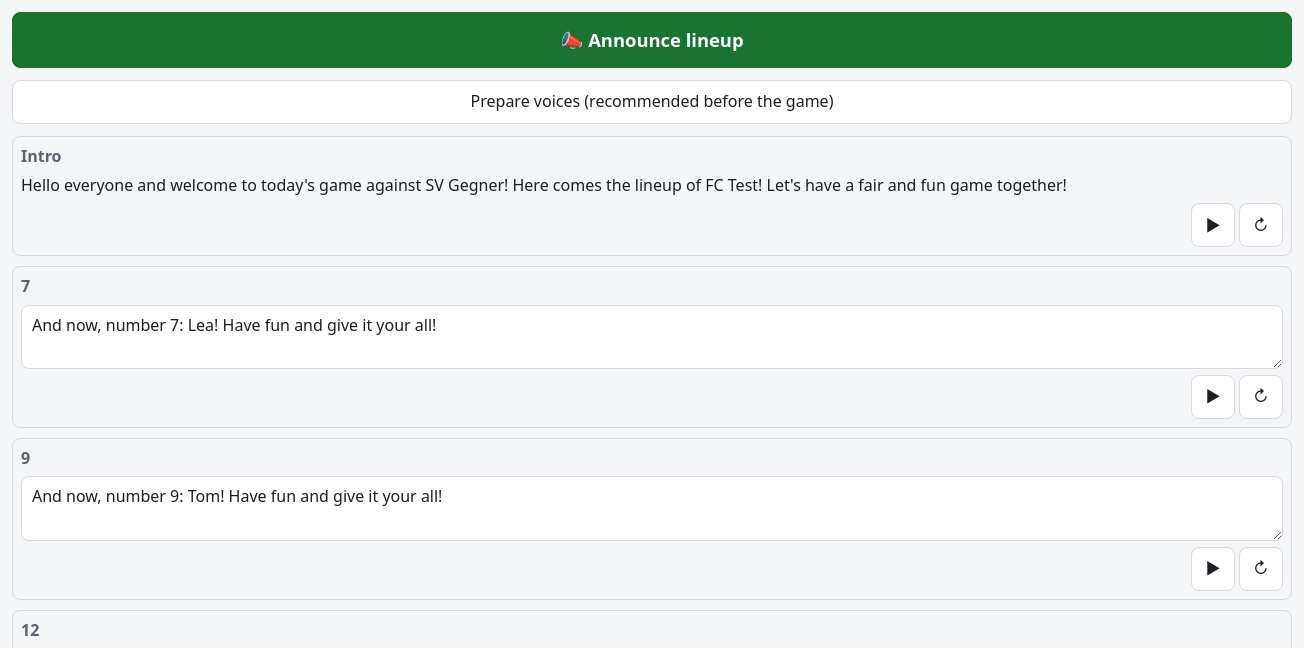
Test: ↻ Regenerate evicts the clip, synthesizes it again and works for the intro row too
The image size is (1304, 648).
Later steps or results of the test are not shown.
Click the button "Prepare voices (recommended before the game)" at (652, 102), box [12,80,1292,124]
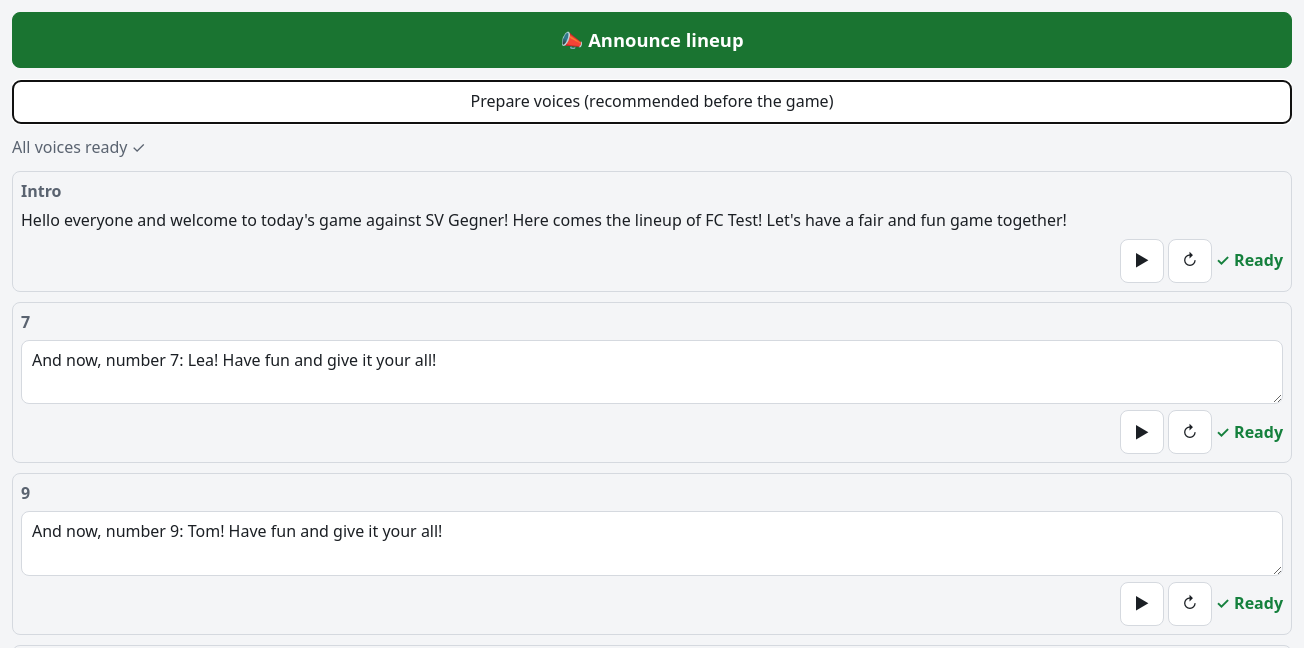
Check: the 2nd text "✓ Ready" is shown, box [1216,420,1283,444]
Click the button named "Regenerate Lea" at (1190, 432), box [1168,410,1212,454]
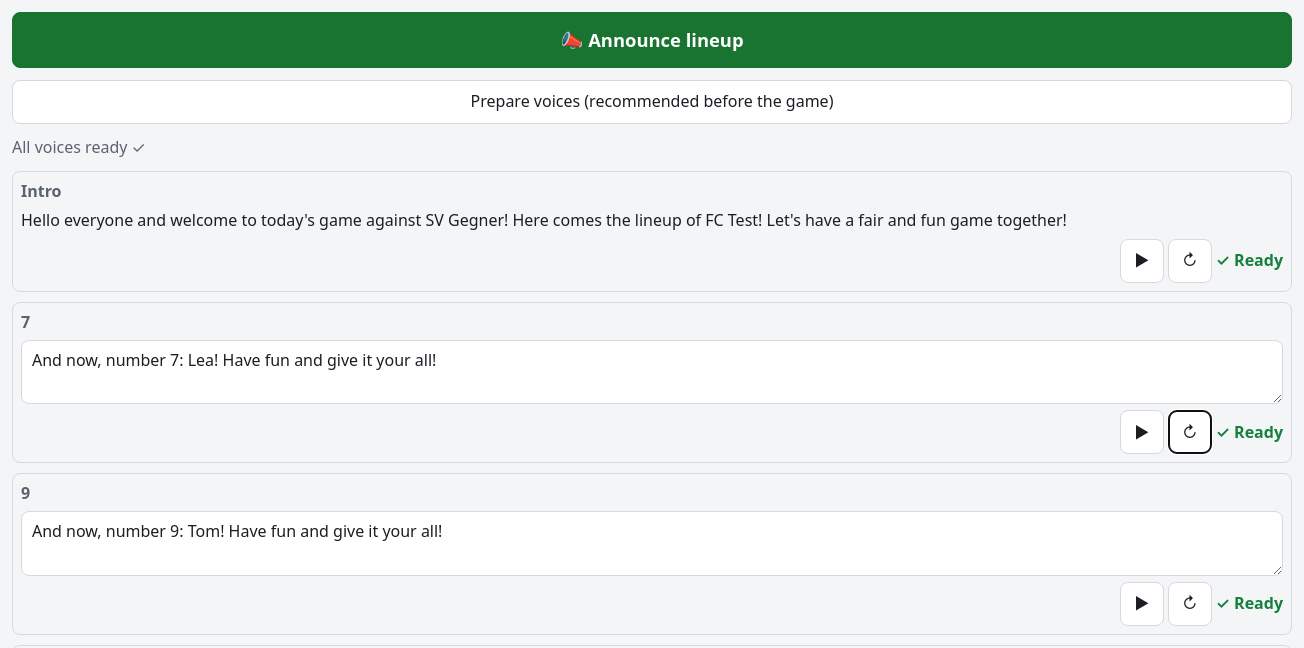
Check: the 2nd text "✓ Ready" is shown, box [1216,420,1283,444]
